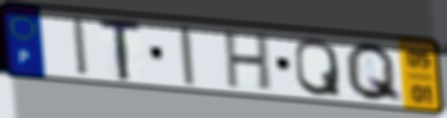H: (223, 29, 273, 94)
I: (69, 14, 92, 79), (175, 24, 198, 88)
Q: (343, 40, 406, 106), (292, 35, 344, 98)
T: (98, 18, 144, 83)
